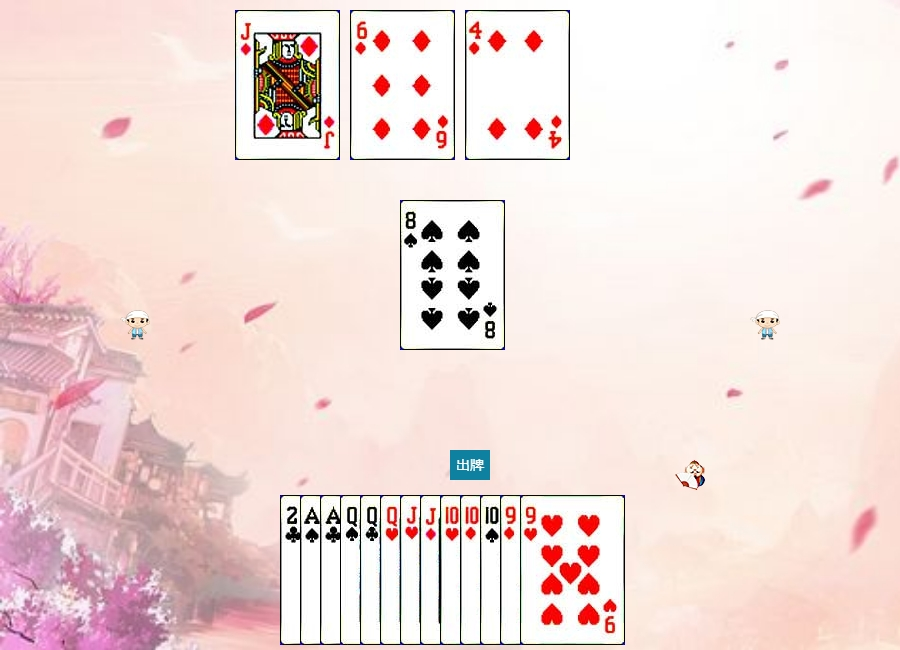10~1: (460, 495, 565, 645)
10~3: (440, 495, 545, 645)
10~4: (480, 495, 585, 645)
11~1: (235, 10, 340, 160), (420, 495, 525, 645)
11~3: (400, 495, 505, 645)
12~2: (360, 495, 465, 645)
12~3: (380, 495, 485, 645)
12~4: (340, 495, 445, 645)
14~2: (320, 495, 425, 645)
14~4: (300, 495, 405, 645)
15~2: (280, 495, 385, 645)
4~1: (465, 10, 570, 160)
6~1: (350, 10, 455, 160)
8~4: (400, 200, 505, 350)
9~1: (500, 495, 605, 645)
9~3: (520, 495, 625, 645)
